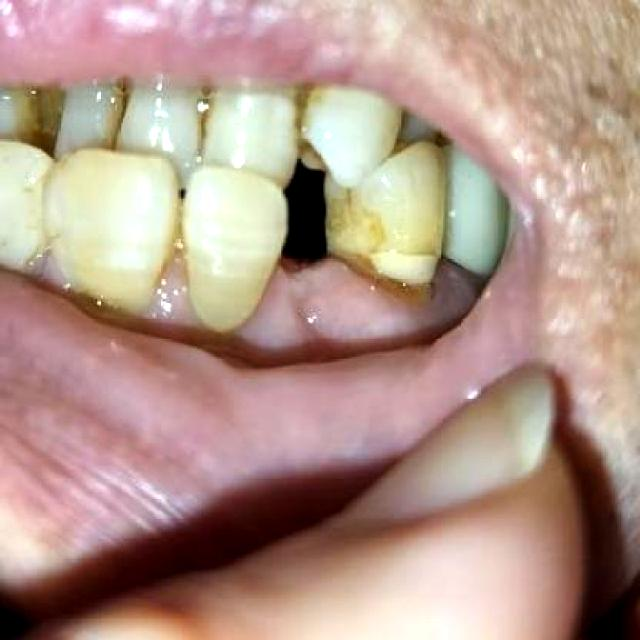Plaque: (141, 255, 476, 360), (317, 195, 394, 266)
